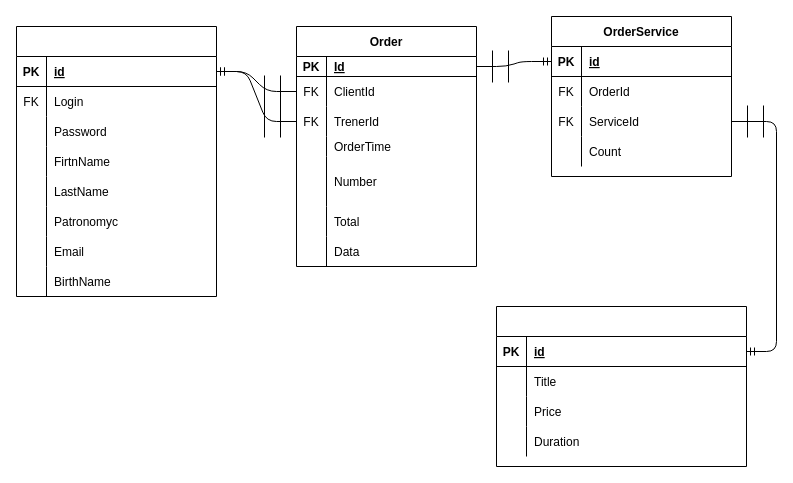
This 793x483 diagram has some shape labels left out. The box of each missing label's shape, as (x1, y1, x2, y2) in pixels:
Service: (496, 306, 746, 466)
User: (16, 26, 216, 296)
